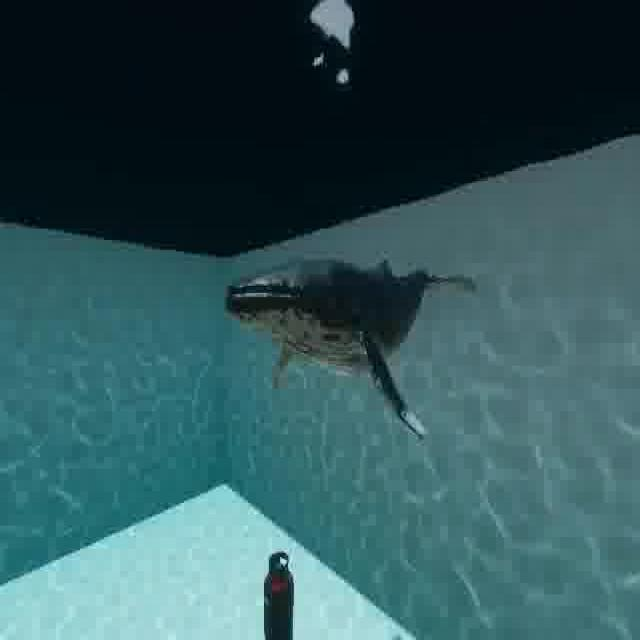Cylinder: (253, 543, 303, 640)
Whale: (216, 246, 489, 462)
